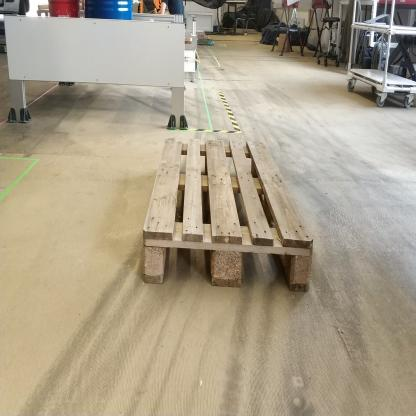BoxFace: (139, 130, 317, 295)
